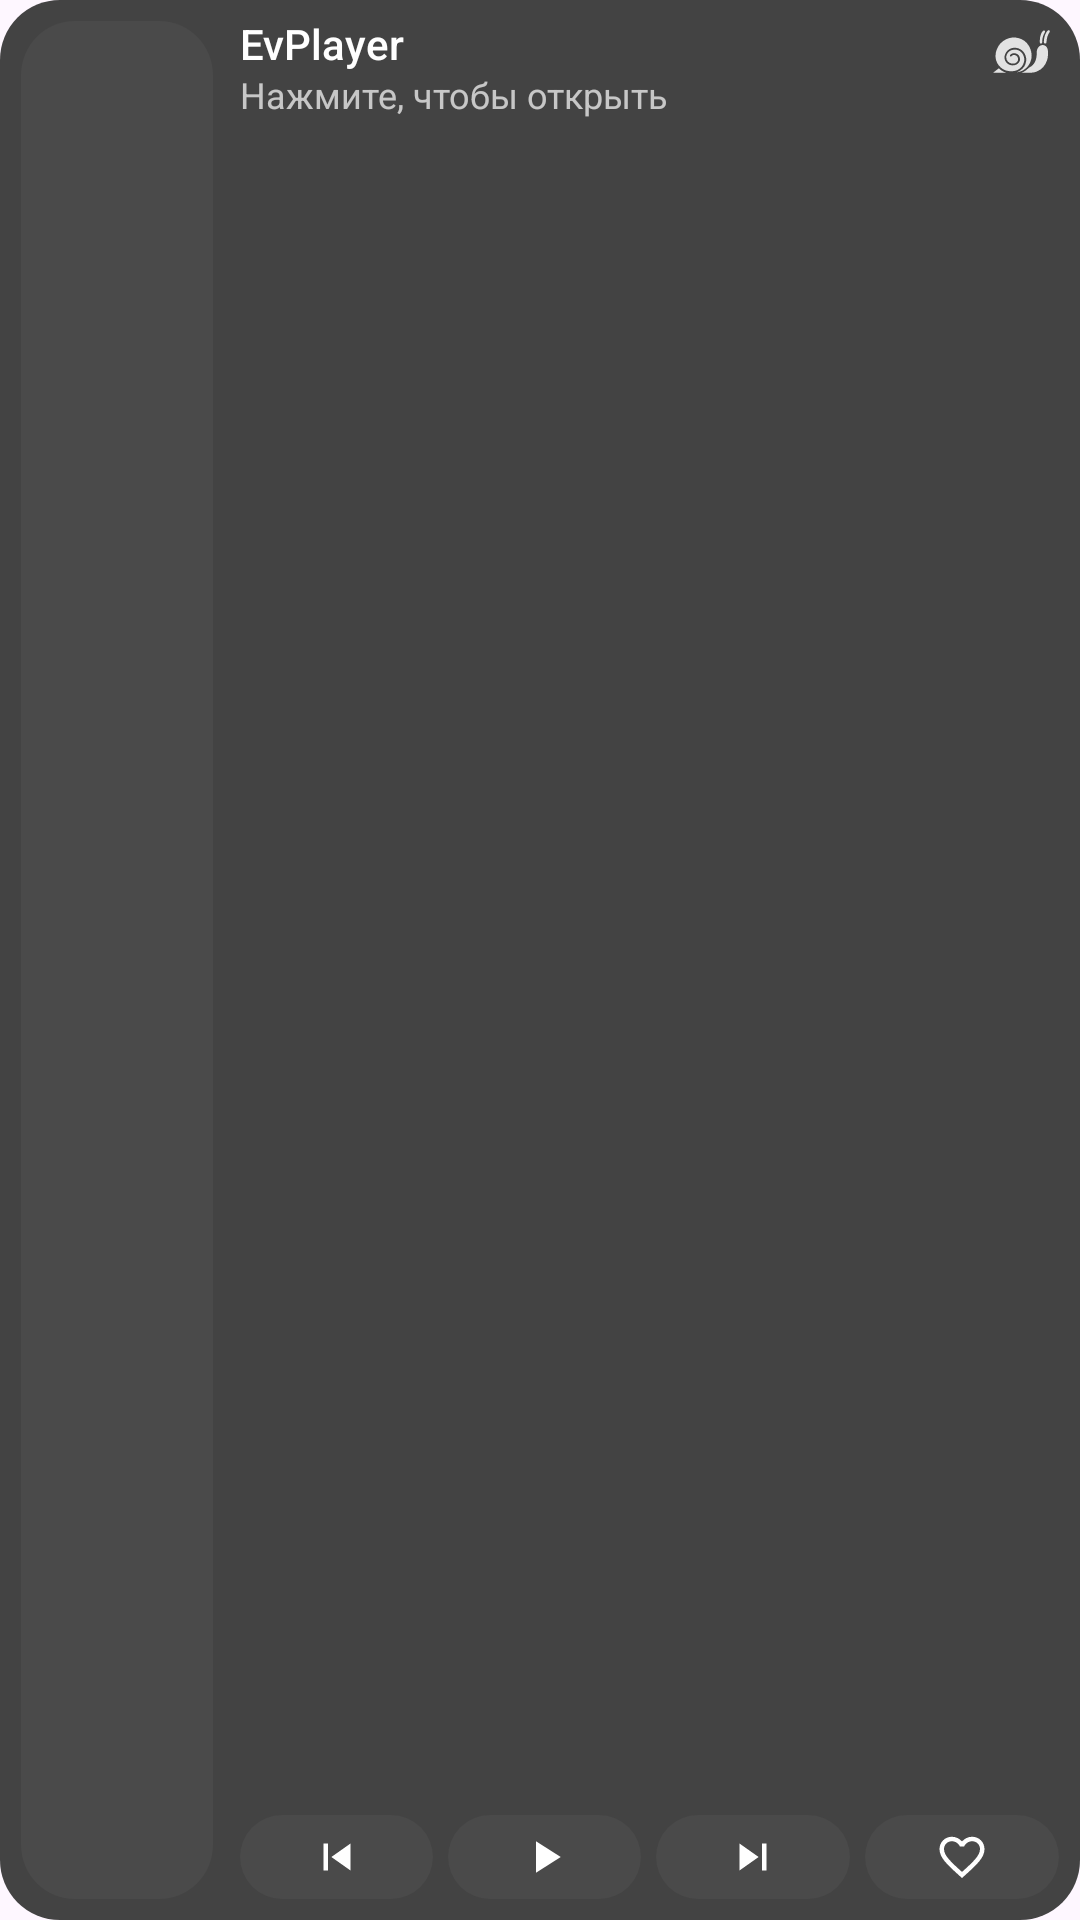

Screen size 1080px x 1920px. Icon name, then its center in pixels as (x,y):
Играть: (548,1857)
Нравится: (962,1857)
Предыдущий: (337,1857)
Следующий: (753,1857)
